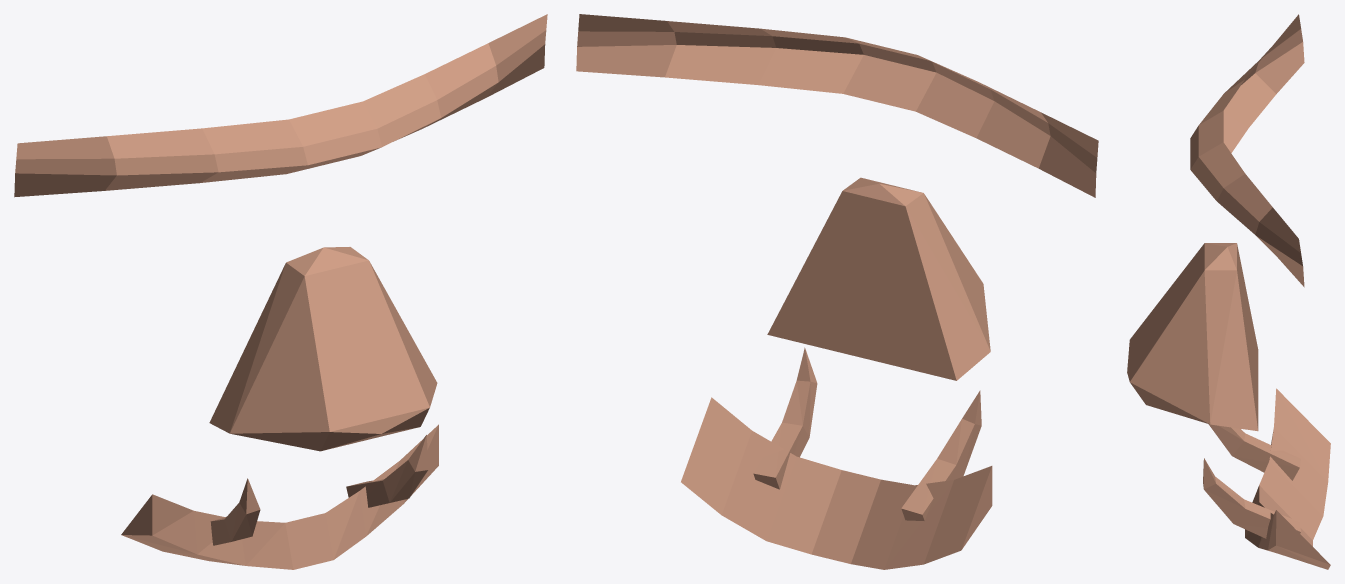
The model's file is nose_or_large.glb.
The picture shows the model from 3 angles, left to right: view 1: azimuth 30°, elevation 25°; view 2: azimuth 150°, elevation 25°; view 3: azimuth 270°, elevation 25°; orthographic projection. The views are drawn at different scales.
Visible parts, largest first — view 1: Snout; view 2: Snout; view 3: Snout.
Part boxes in pixels (left/top/right/bottom): Snout: left=14, top=14, right=547, bottom=569; Snout: left=576, top=14, right=1098, bottom=569; Snout: left=1127, top=14, right=1330, bottom=569.
Size of the model in its own units: 0.148 by 0.1297 by 0.0567.
1 material, 1 textured.
